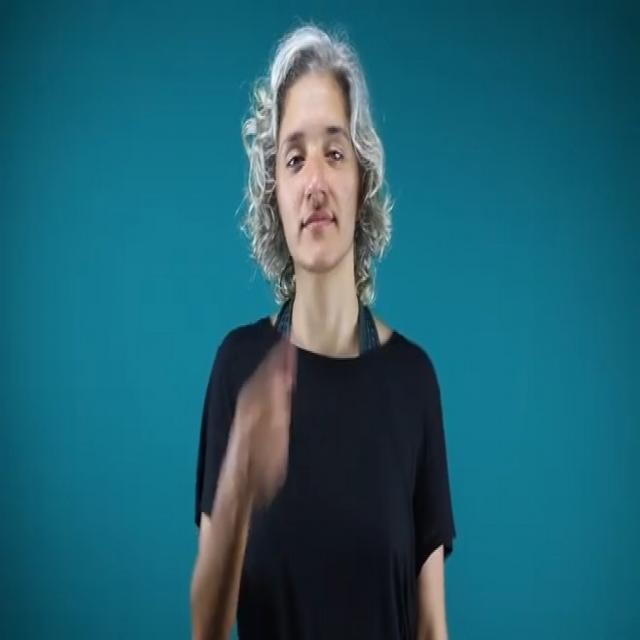allergy: (224, 337, 312, 508)
